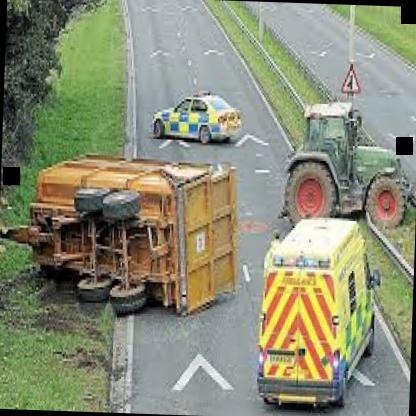accident: (0, 131, 260, 350)
